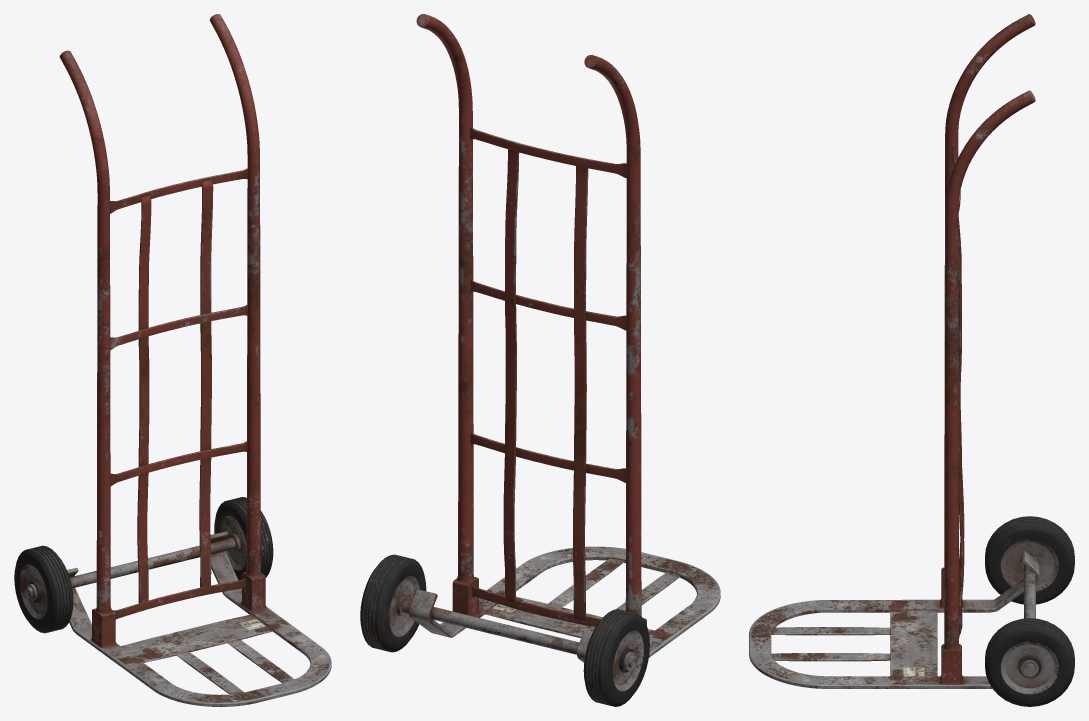
Rendered from hand_truck_1k.glb.
The picture shows the model from 3 angles, left to right: view 1: azimuth 30°, elevation 25°; view 2: azimuth 150°, elevation 25°; view 3: azimuth 270°, elevation 25°; orthographic projection. The views are drawn at different scales.
Parts seen in each view (by area): view 1: hand_truck; view 2: hand_truck; view 3: hand_truck.
Part boxes in pixels (box(x1,y1,x2,y2)): hand_truck: box(14, 14, 331, 706); hand_truck: box(360, 14, 720, 706); hand_truck: box(749, 14, 1074, 706).
Size of the model in its own units: 0.5933 by 1.4 by 0.6926.
1 material, 1 textured.
